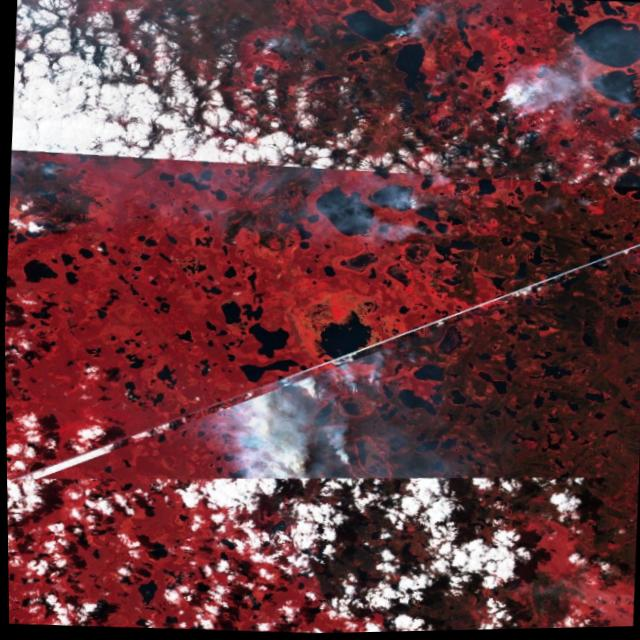fire: (200, 342, 393, 503), (343, 173, 455, 263), (469, 73, 546, 133)
